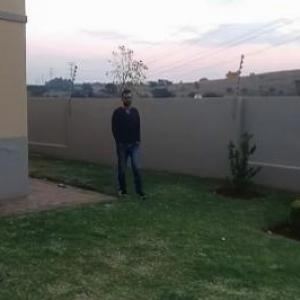follow: (108, 87, 144, 197)
